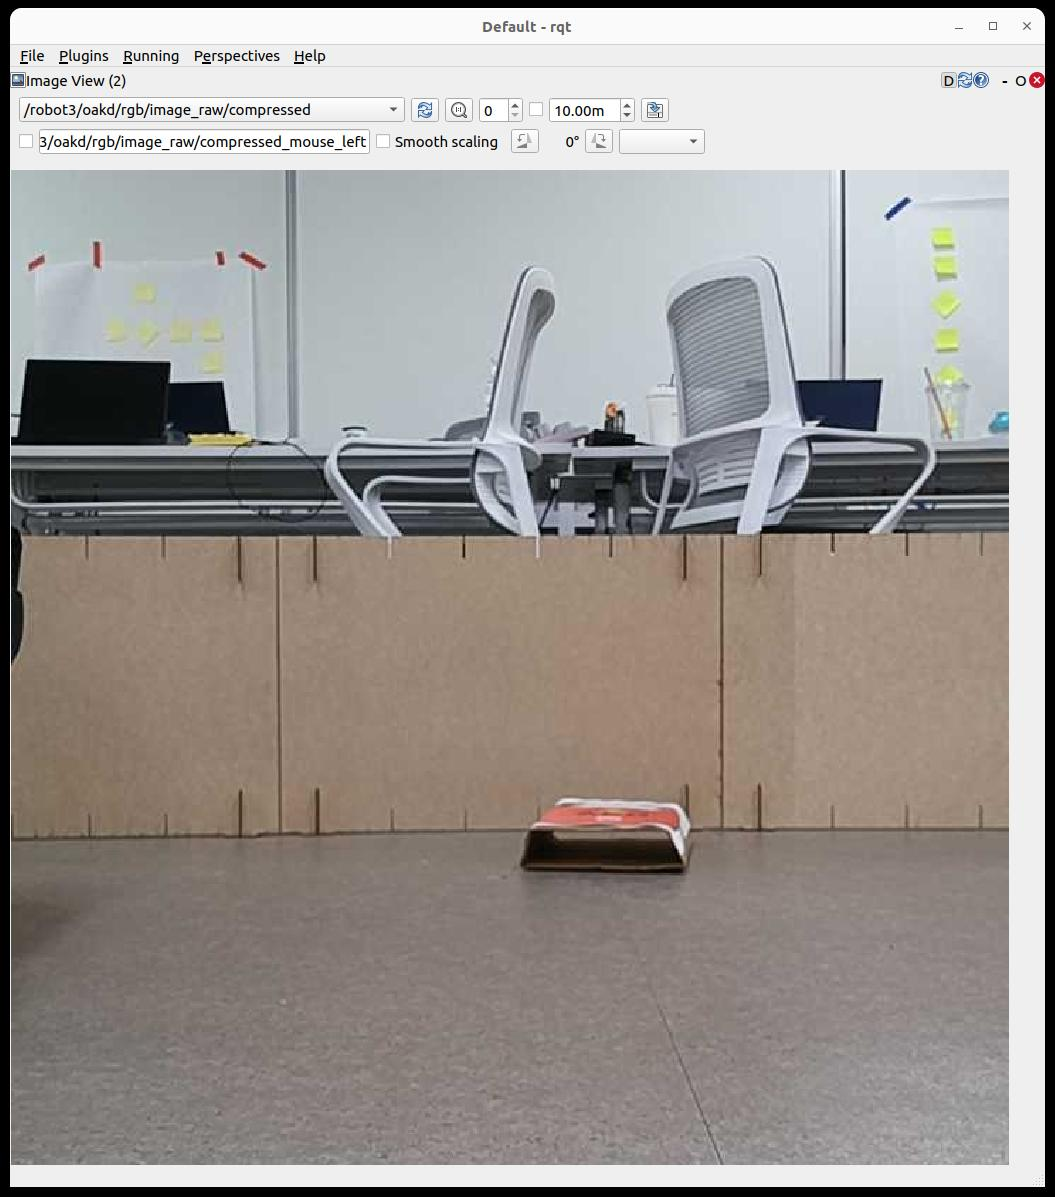AED: (521, 799, 689, 871)
